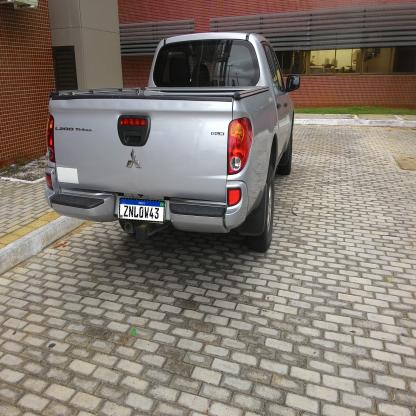PlacaM: (119, 198, 165, 222)
